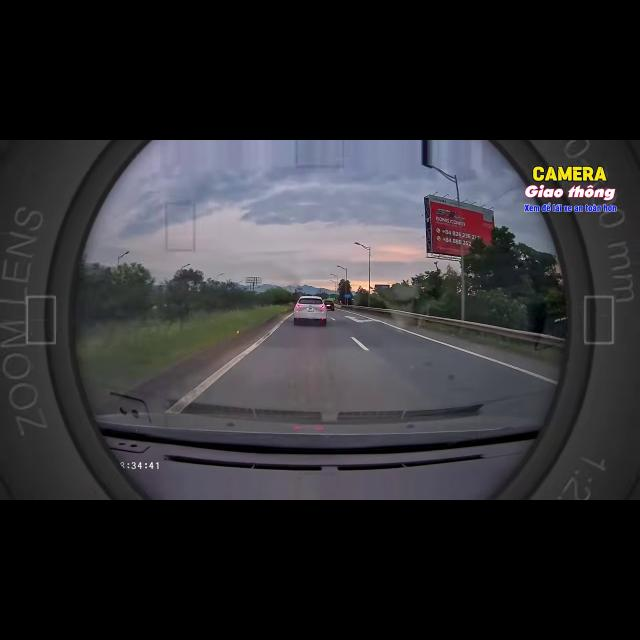car: (293, 296, 327, 325), (324, 300, 334, 310)
